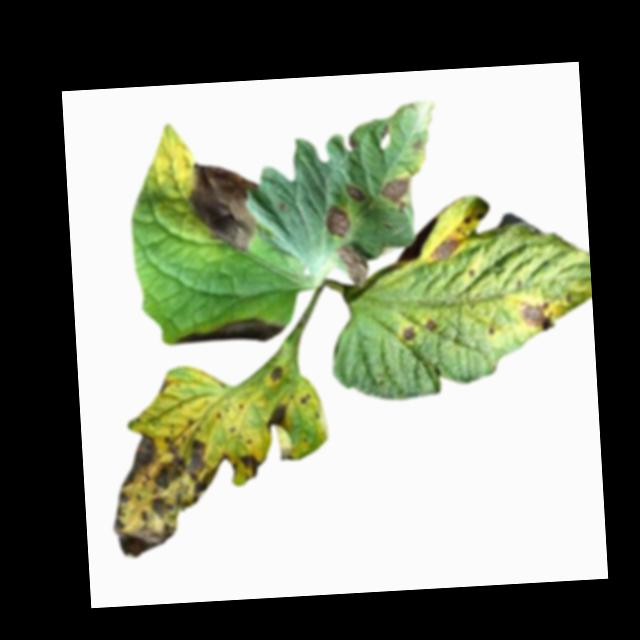Early_blight: (107, 423, 231, 561), (185, 159, 263, 253), (172, 315, 287, 350), (336, 243, 370, 286), (517, 295, 554, 330), (381, 176, 413, 212), (429, 234, 461, 263), (324, 204, 351, 238), (265, 401, 291, 432), (239, 453, 263, 479), (345, 181, 364, 203), (267, 365, 284, 382), (401, 324, 417, 338), (425, 316, 440, 330), (299, 392, 313, 405)
